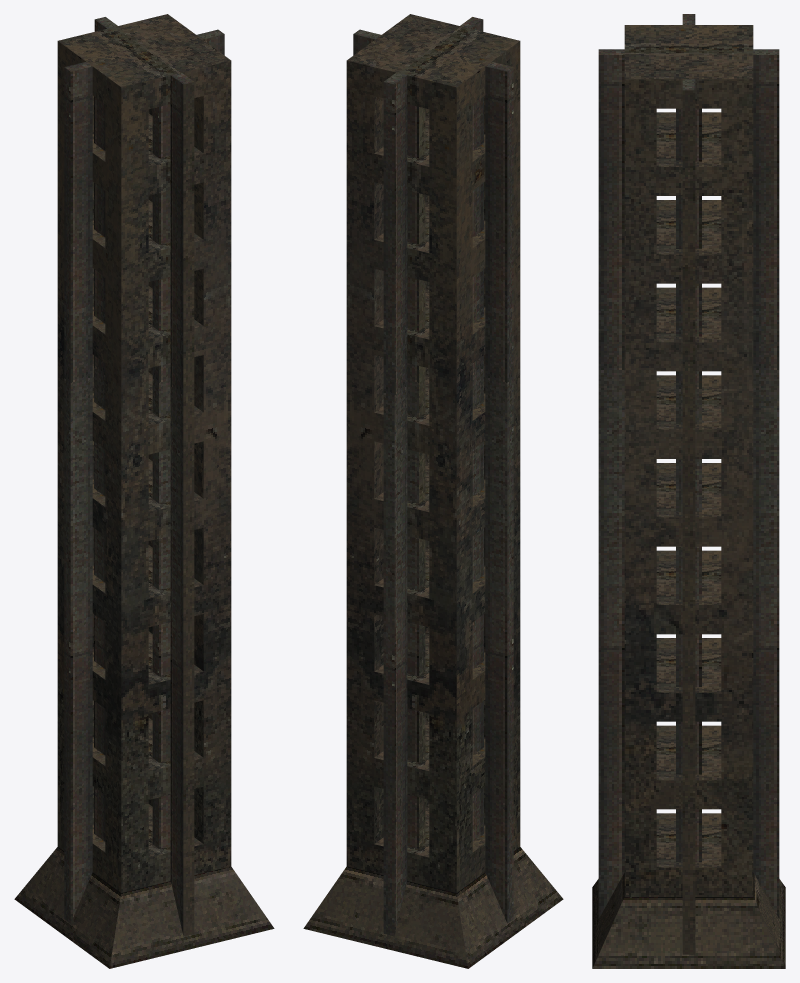
The model's file is pillar_rgx_3.glb.
3 views of the same model, side by side, from view 1: azimuth 30°, elevation 25°; view 2: azimuth 150°, elevation 25°; view 3: azimuth 270°, elevation 25° (orthographic).
Visible parts, largest first — view 1: pillar_rgx_3; view 2: pillar_rgx_3; view 3: pillar_rgx_3.
Part boxes in pixels (bbox=[...]): pillar_rgx_3: bbox=[14, 14, 274, 968]; pillar_rgx_3: bbox=[303, 14, 563, 968]; pillar_rgx_3: bbox=[592, 14, 785, 968].
Bounding box in the file's own units: 0.6 × 3 × 0.6.
2 materials, 2 textured.
